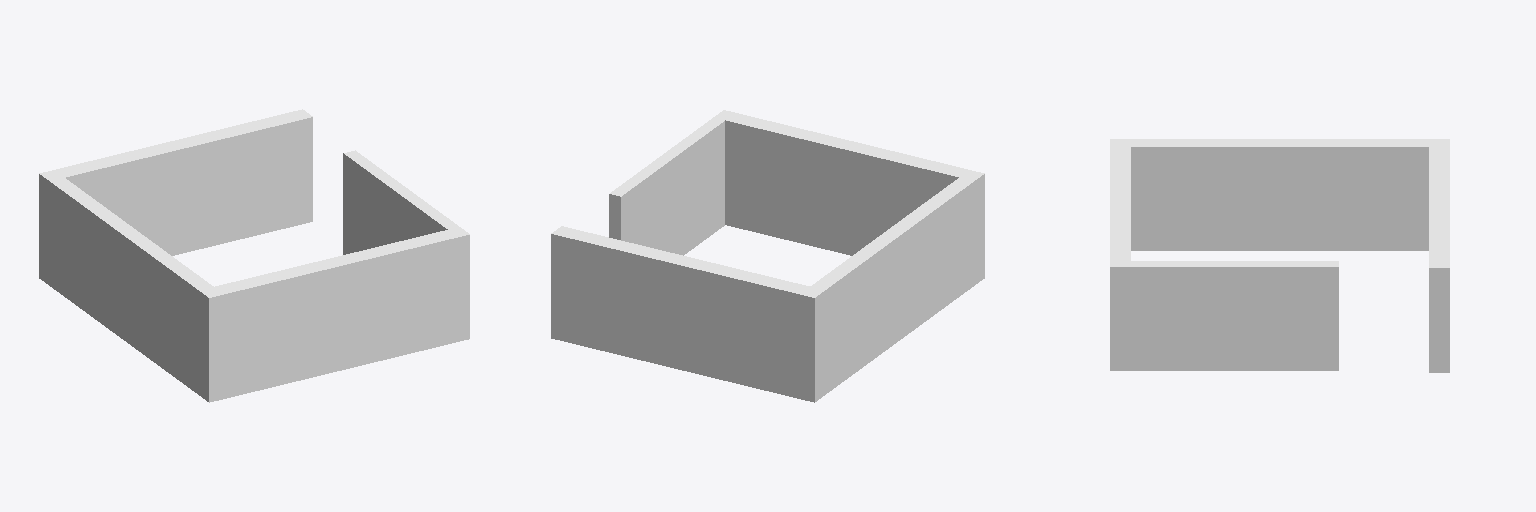
3 views of the same model, side by side, from view 1: azimuth 30°, elevation 25°; view 2: azimuth 150°, elevation 25°; view 3: azimuth 270°, elevation 25° (orthographic).
Parts seen in each view (by area): view 1: Test; view 2: Test; view 3: Test.
Part boxes in pixels (left/top/right/bottom): Test: left=39, top=109, right=469, bottom=402; Test: left=551, top=110, right=984, bottom=402; Test: left=1110, top=139, right=1449, bottom=372.
Bounding box in the file's own units: 10.98 × 4.16 × 12.27.